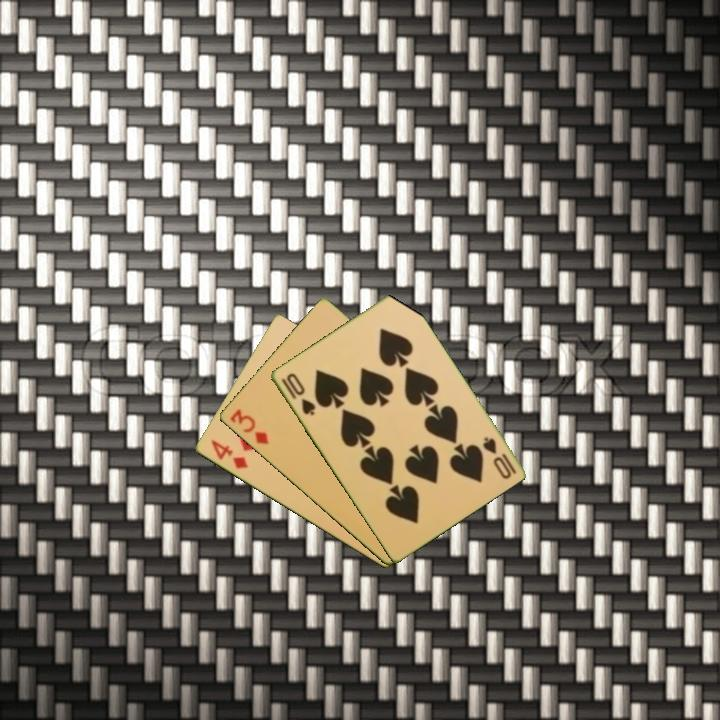10s: (478, 433, 519, 482), (278, 369, 318, 418)
3d: (226, 405, 271, 448)
4d: (207, 436, 251, 472)
